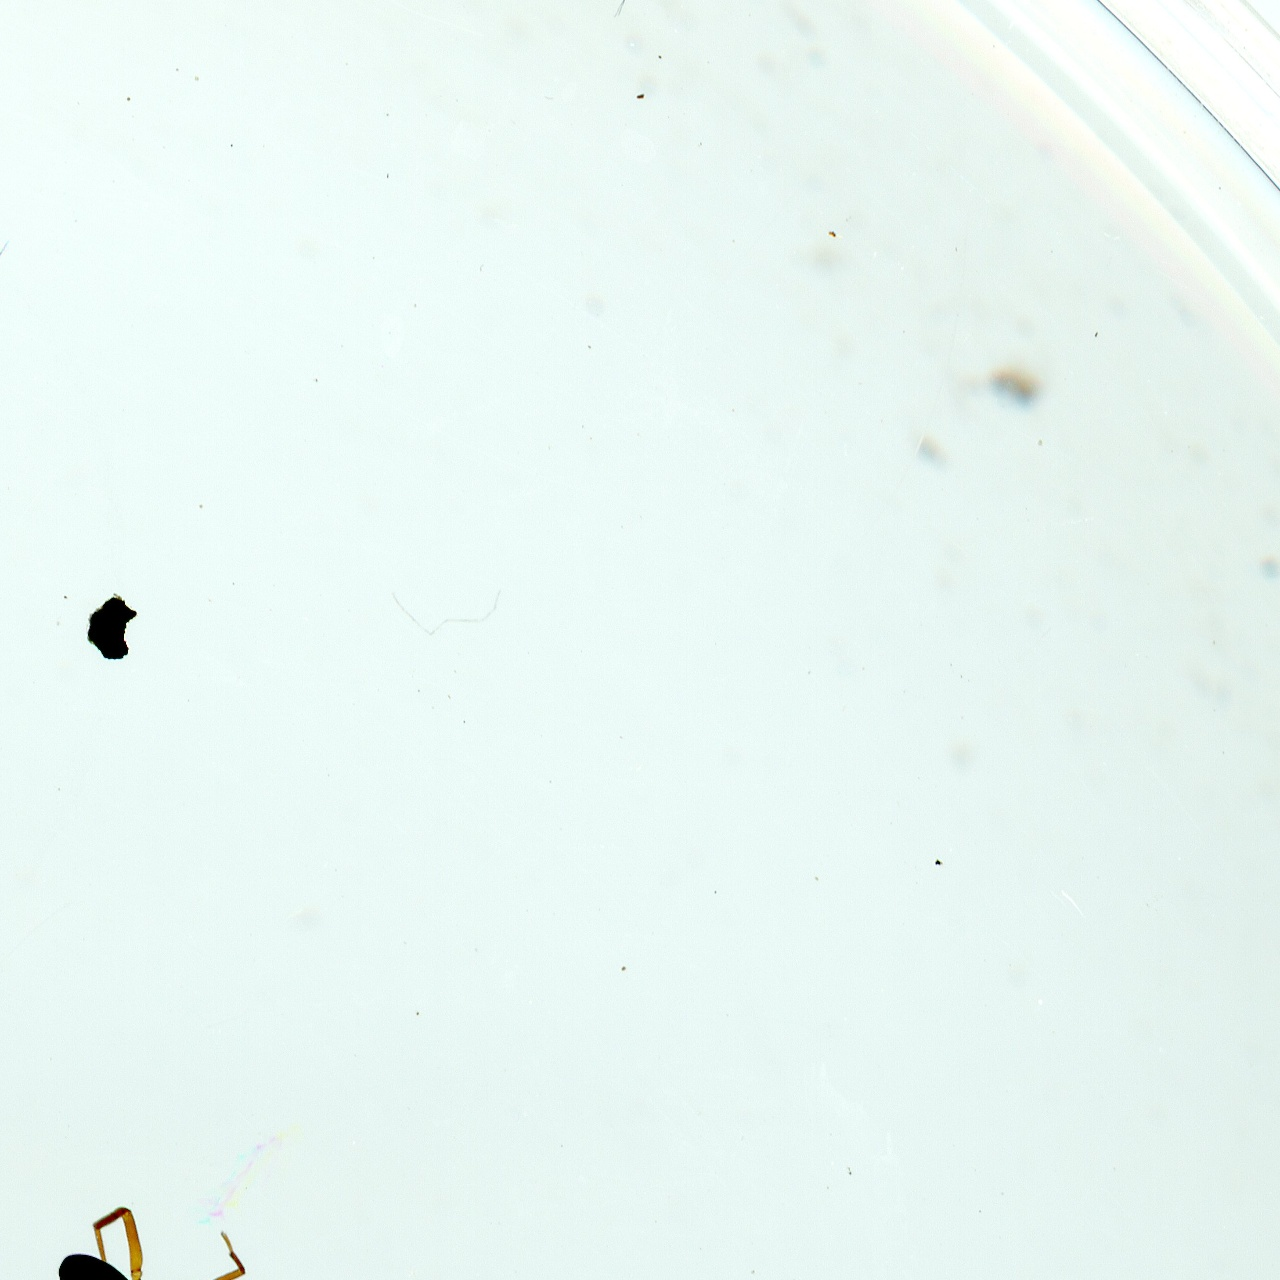arthropod: (29, 1189, 259, 1280)
